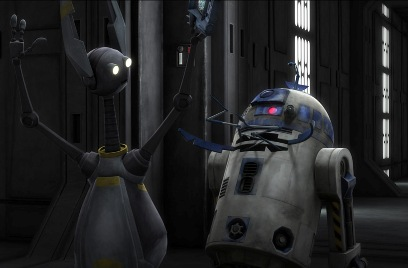r2d2: (205, 85, 369, 268)
